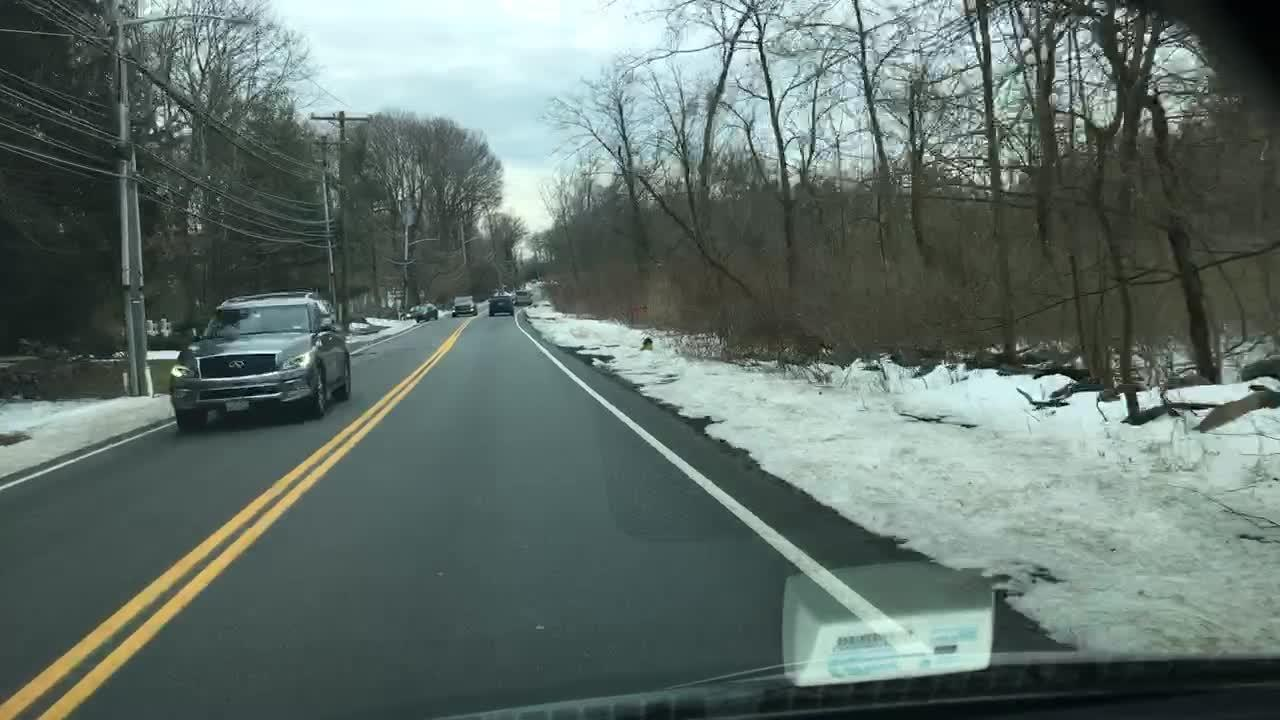Infiniti: (224, 356, 250, 373)
